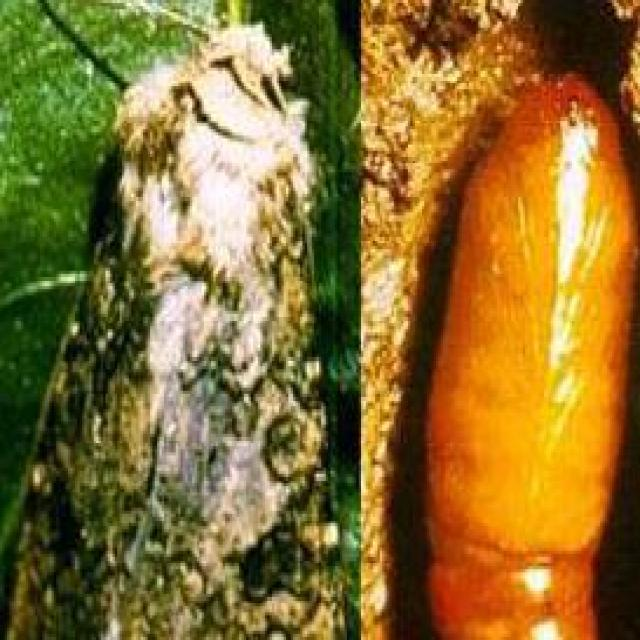armyworm: (44, 8, 350, 639), (453, 37, 618, 640)
